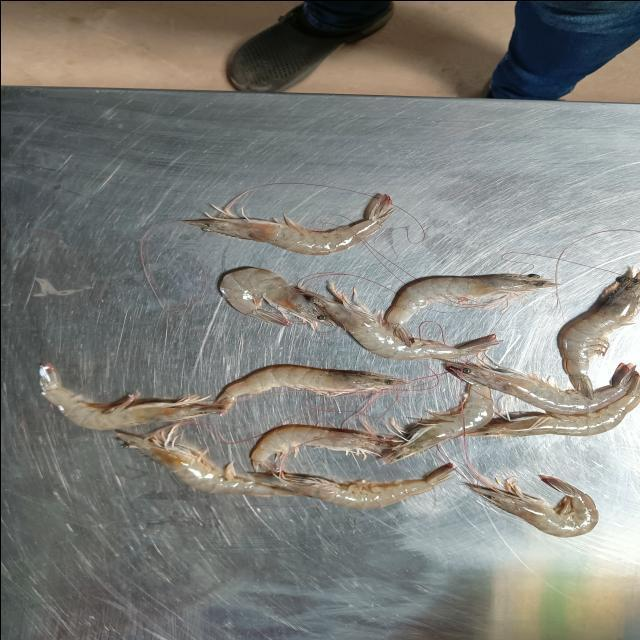shrimp: (301, 281, 501, 359), (115, 422, 299, 496), (184, 192, 392, 255), (38, 362, 224, 429), (465, 374, 640, 436), (556, 266, 640, 395), (443, 360, 636, 414), (248, 462, 454, 509), (381, 384, 492, 462), (213, 364, 405, 409), (385, 274, 556, 324), (465, 475, 598, 536), (219, 266, 335, 329), (248, 424, 392, 470)
